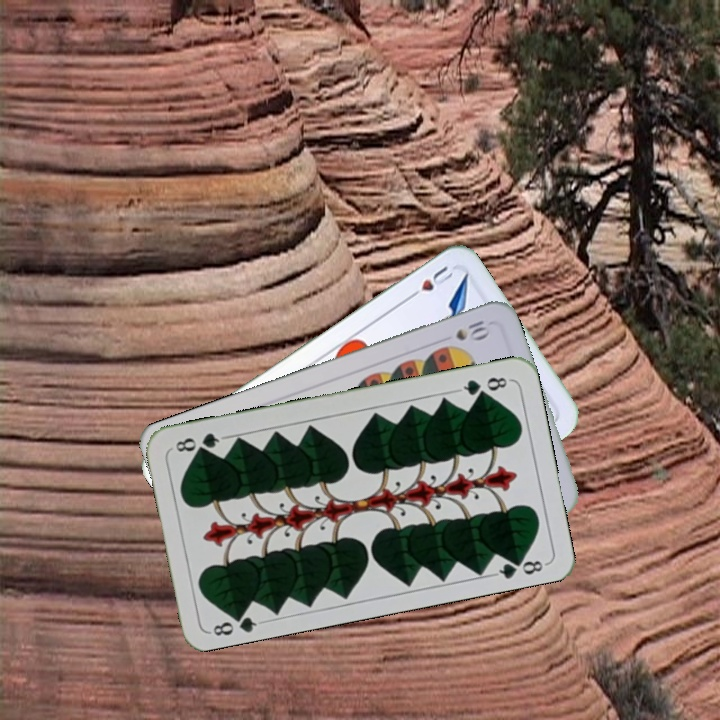G8: (206, 607, 265, 639), (454, 373, 513, 399)
HU: (403, 262, 456, 303)
S10: (451, 316, 493, 343)
